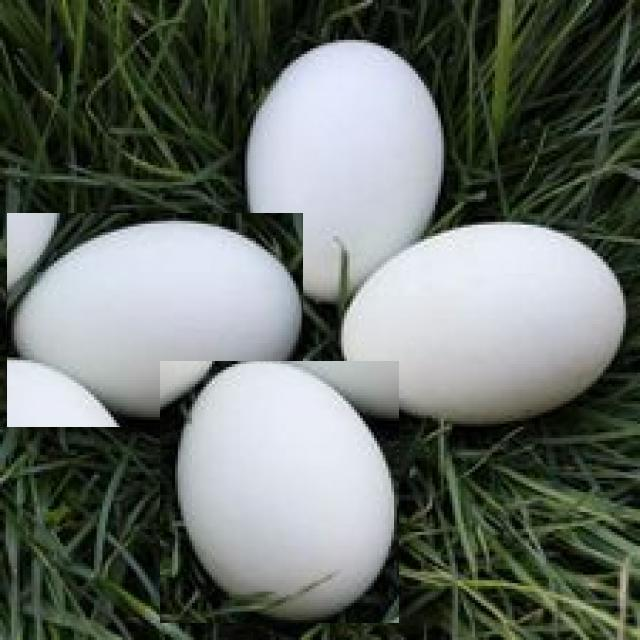Egg: (7, 213, 303, 428), (160, 361, 399, 623), (332, 220, 634, 424), (238, 32, 444, 305)
